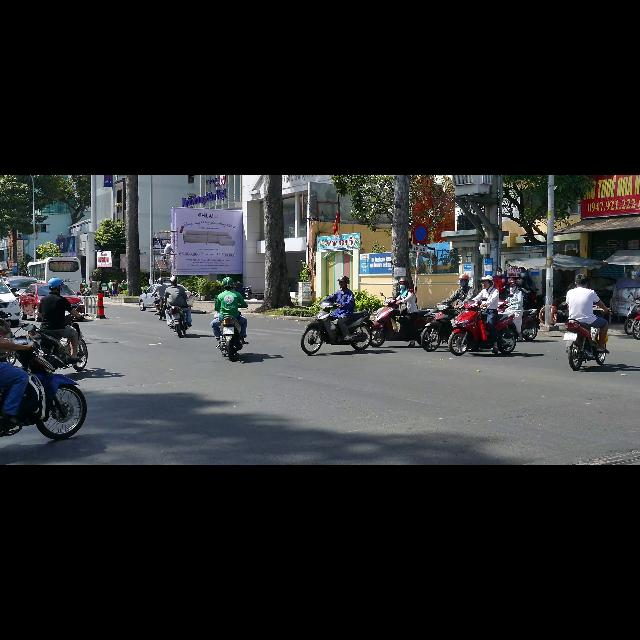bus: (27, 257, 81, 291)
car: (20, 283, 50, 322), (0, 282, 19, 327), (2, 277, 38, 294), (139, 284, 160, 310)
motorcycle: (0, 345, 86, 439), (301, 302, 372, 354), (29, 313, 87, 371), (371, 298, 434, 347), (448, 303, 493, 356), (564, 320, 605, 370), (420, 305, 461, 351), (421, 305, 462, 351), (220, 316, 243, 360), (521, 309, 540, 341), (170, 306, 189, 337), (521, 309, 539, 341), (624, 296, 639, 334), (0, 311, 13, 338), (154, 293, 166, 320), (632, 316, 640, 340), (244, 287, 254, 299)
